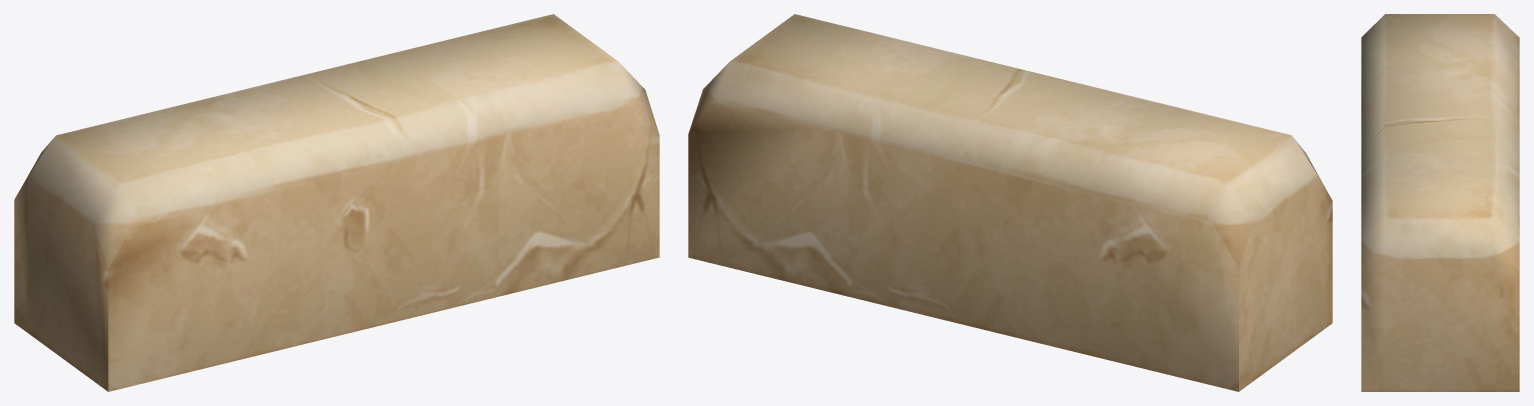
File: DE_House_Mod_Part_43.fbx
The picture shows the model from 3 angles, left to right: view 1: azimuth 30°, elevation 25°; view 2: azimuth 150°, elevation 25°; view 3: azimuth 270°, elevation 25°; orthographic projection. The views are drawn at different scales.
Visible parts, largest first — view 1: DE_House_Mod_Part_43; view 2: DE_House_Mod_Part_43; view 3: DE_House_Mod_Part_43.
Boxes of the visible parts, <box> form: DE_House_Mod_Part_43: <box>14,14,659,391</box>; DE_House_Mod_Part_43: <box>688,14,1332,391</box>; DE_House_Mod_Part_43: <box>1361,14,1519,391</box>.
Bounding box in the file's own units: 2.47 × 0.8223 × 0.7291.
